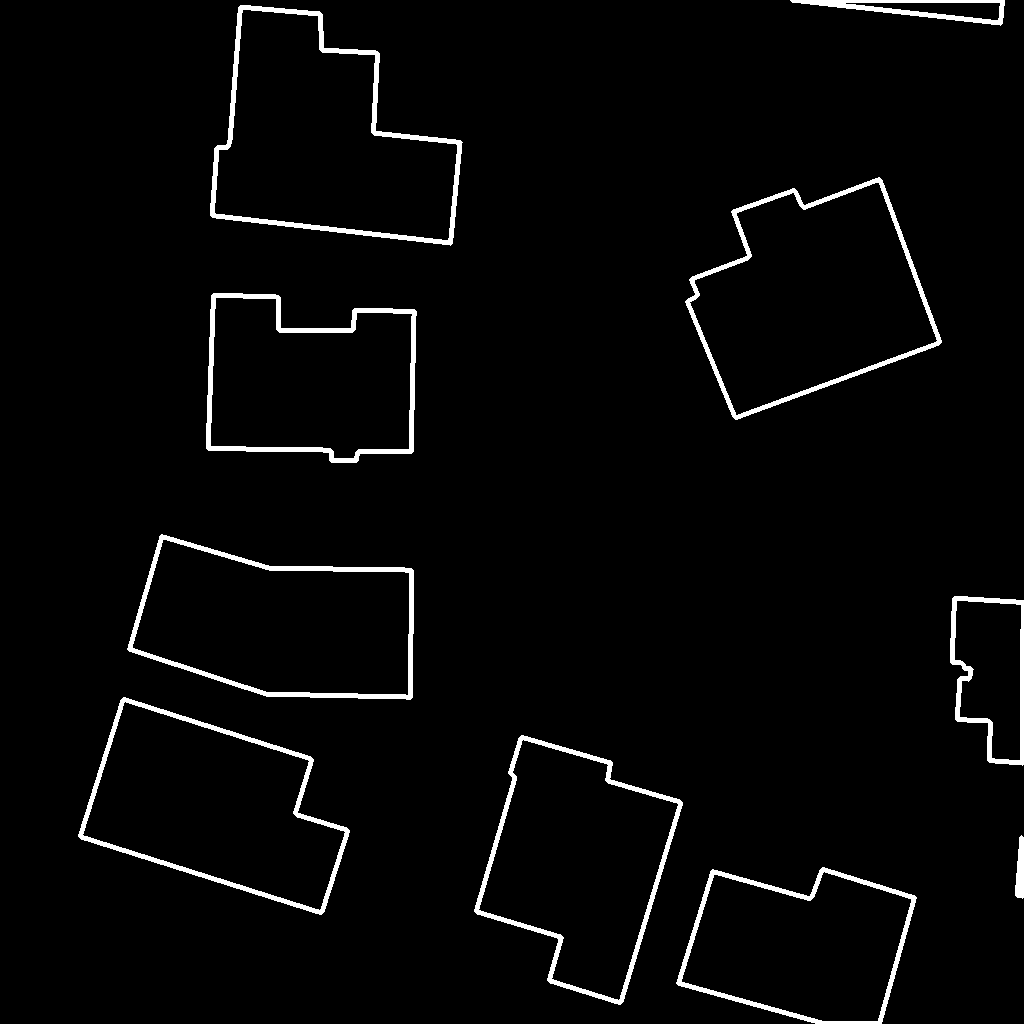building: (687, 179, 941, 419), (212, 7, 461, 244), (80, 699, 349, 914), (476, 737, 682, 1004), (129, 536, 413, 698), (678, 869, 916, 1024), (208, 295, 415, 461), (952, 598, 1024, 764), (788, 0, 1004, 24), (1017, 831, 1024, 897)
